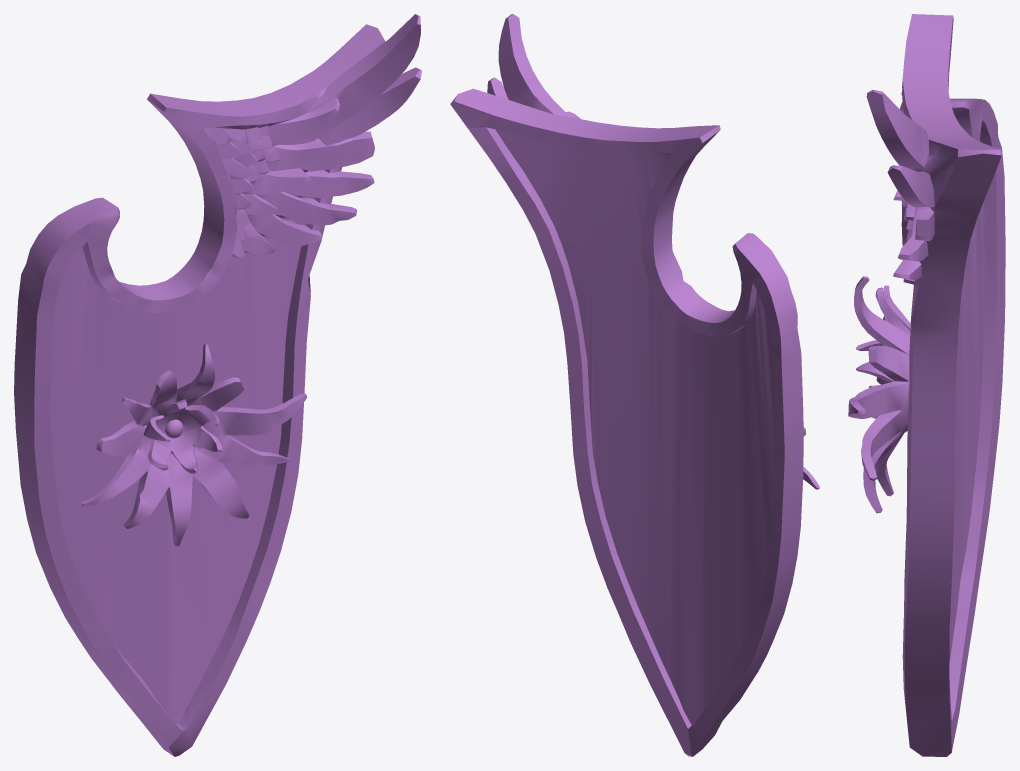
Rendered from SM_Rune_Shield_2.fbx.
3 views of the same model, side by side, from view 1: azimuth 30°, elevation 25°; view 2: azimuth 150°, elevation 25°; view 3: azimuth 270°, elevation 25° (orthographic). The views are drawn at different scales.
Parts seen in each view (by area): view 1: SM_Rune_Shield_2; view 2: SM_Rune_Shield_2; view 3: SM_Rune_Shield_2.
Boxes of the visible parts, x1,y1,x2,y2 form: SM_Rune_Shield_2: [14, 14, 421, 756]; SM_Rune_Shield_2: [450, 14, 819, 756]; SM_Rune_Shield_2: [848, 14, 1005, 756].
Bounding box in the file's own units: 0.5916 × 1.11 × 0.2008.
